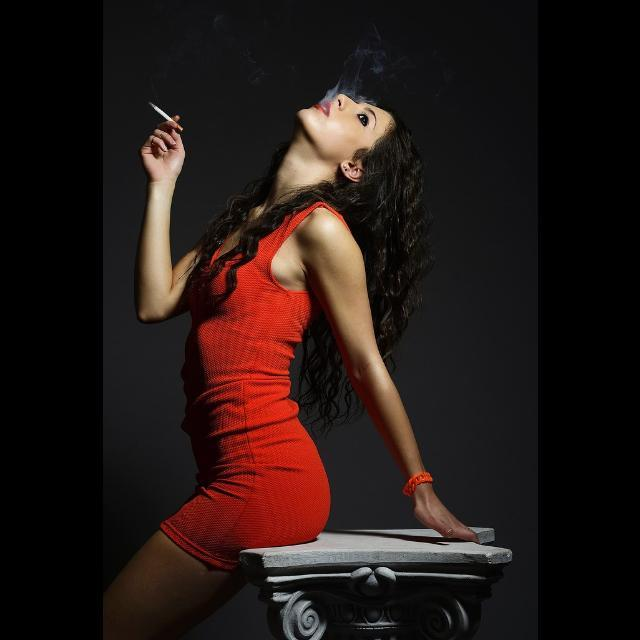rokok: (146, 100, 177, 126)
